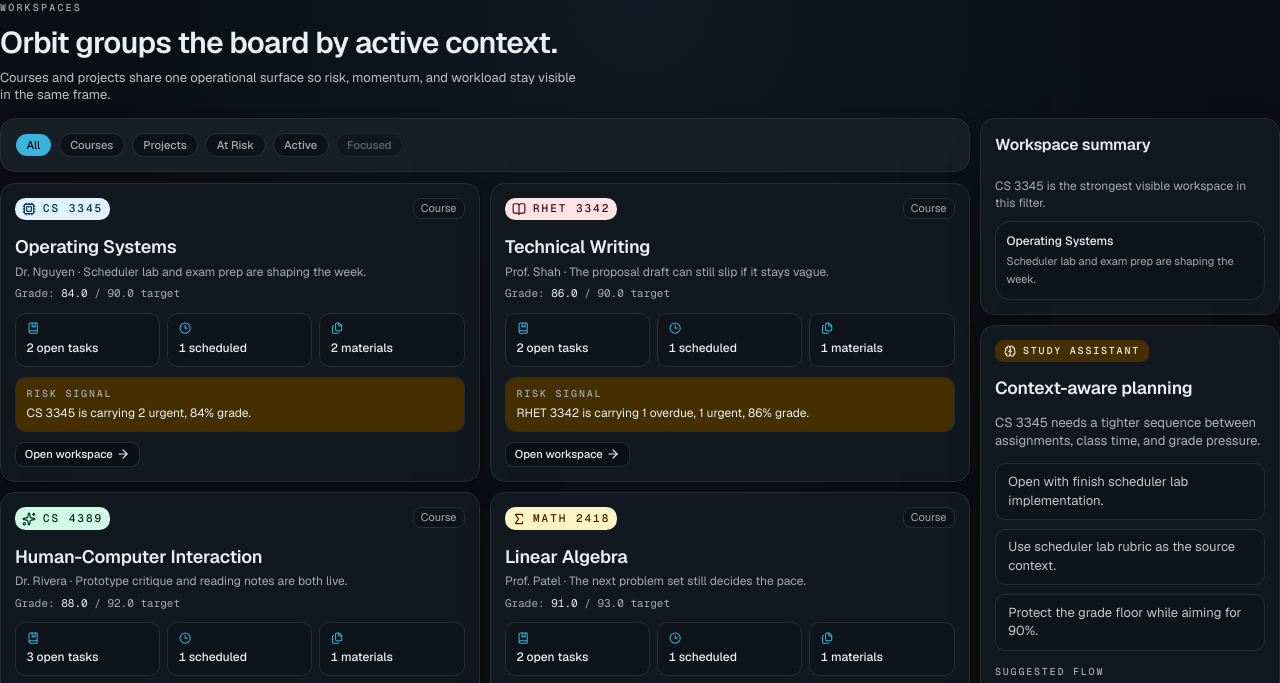
Test case: WorkspacesView › filters between course and project workspaces
Expected: the text "Operating Systems" next to "Technical Writing" is shown, [15,236,176,258]
Click the button "Projects". click: click(165, 145)
box: [132,133,198,157]
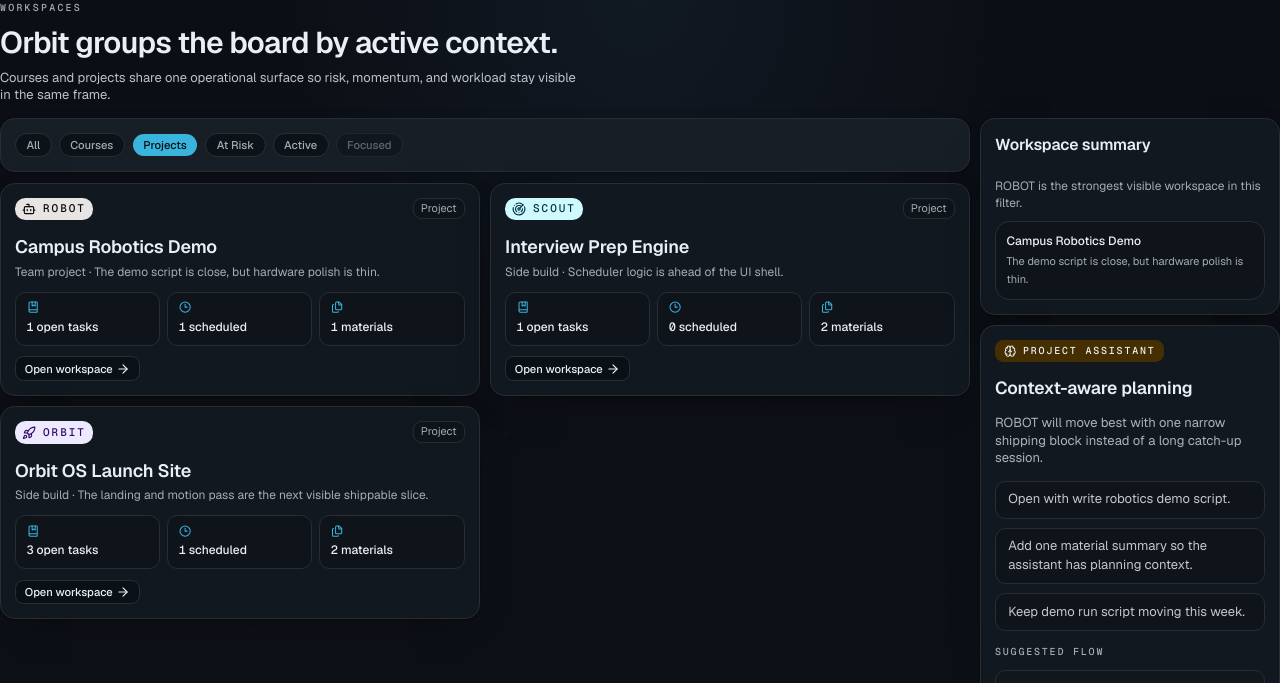
Expected: the text "Orbit OS Launch Site" is shown, [15,459,191,482]
Now no links "Operating Systems" are shown
